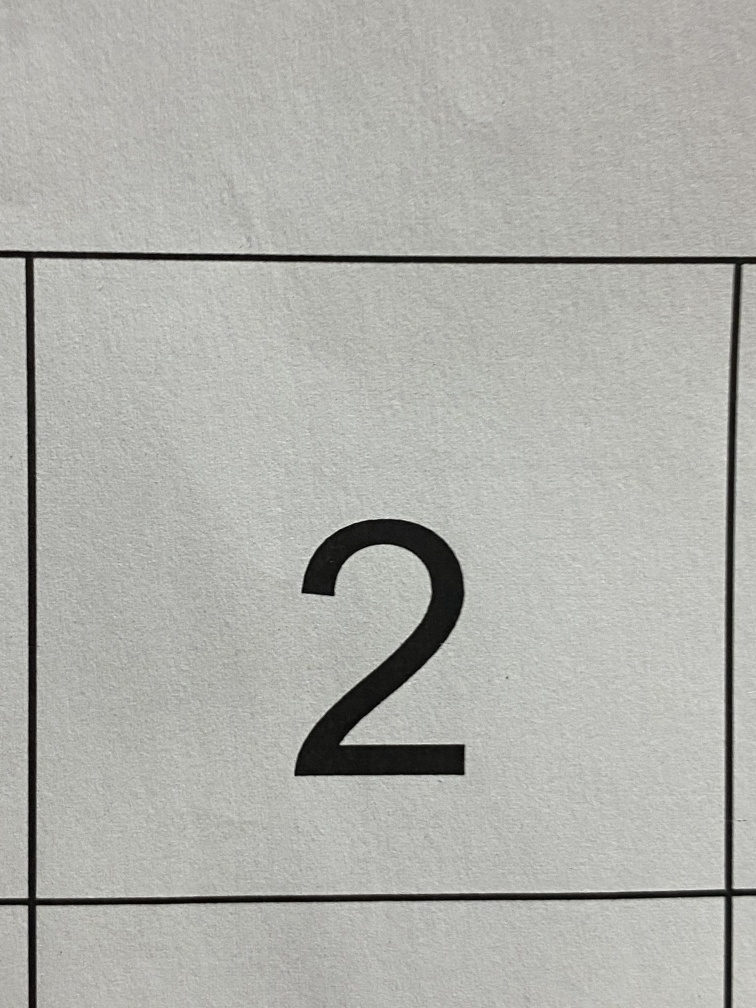two: (238, 454, 544, 867)
